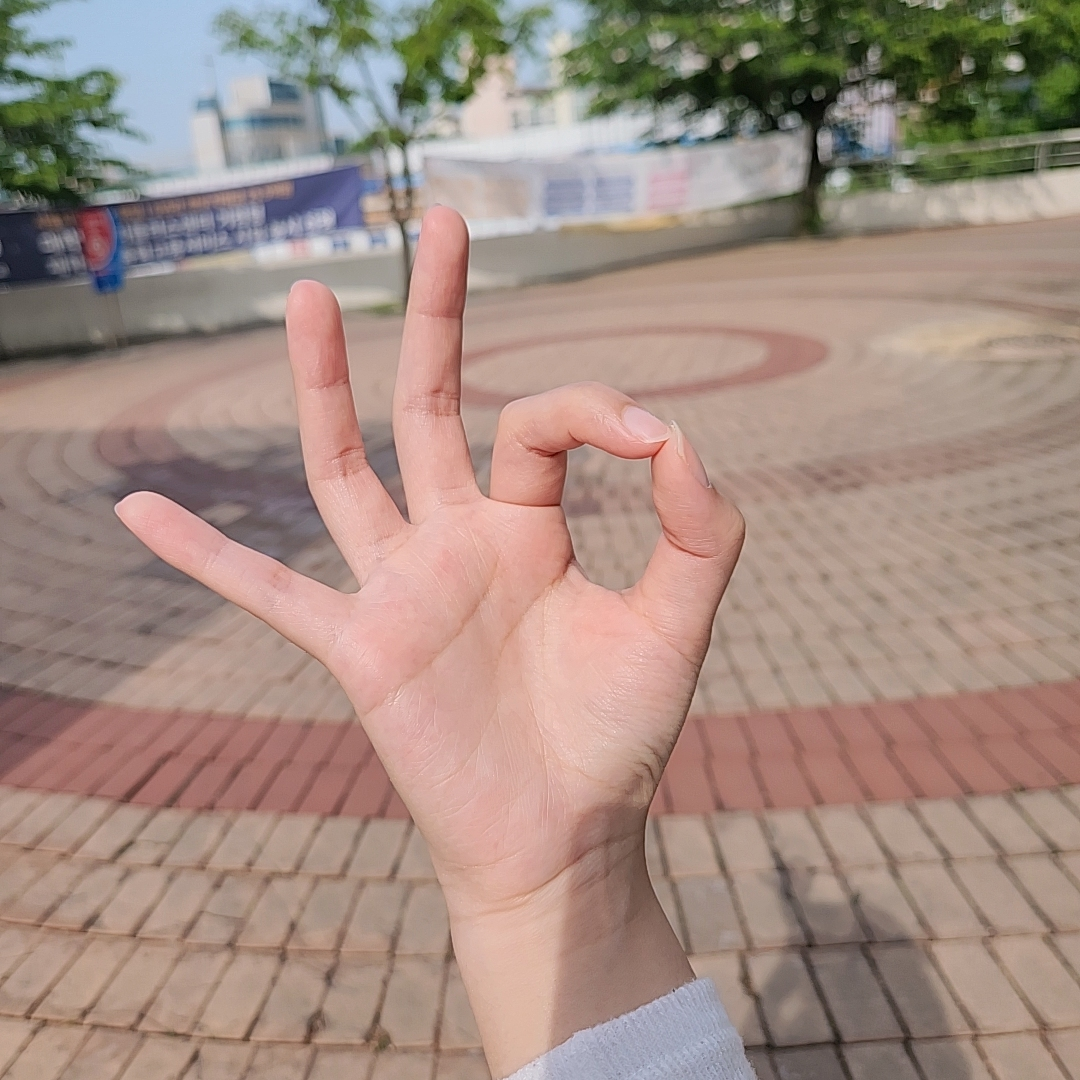see: (113, 208, 744, 832)
